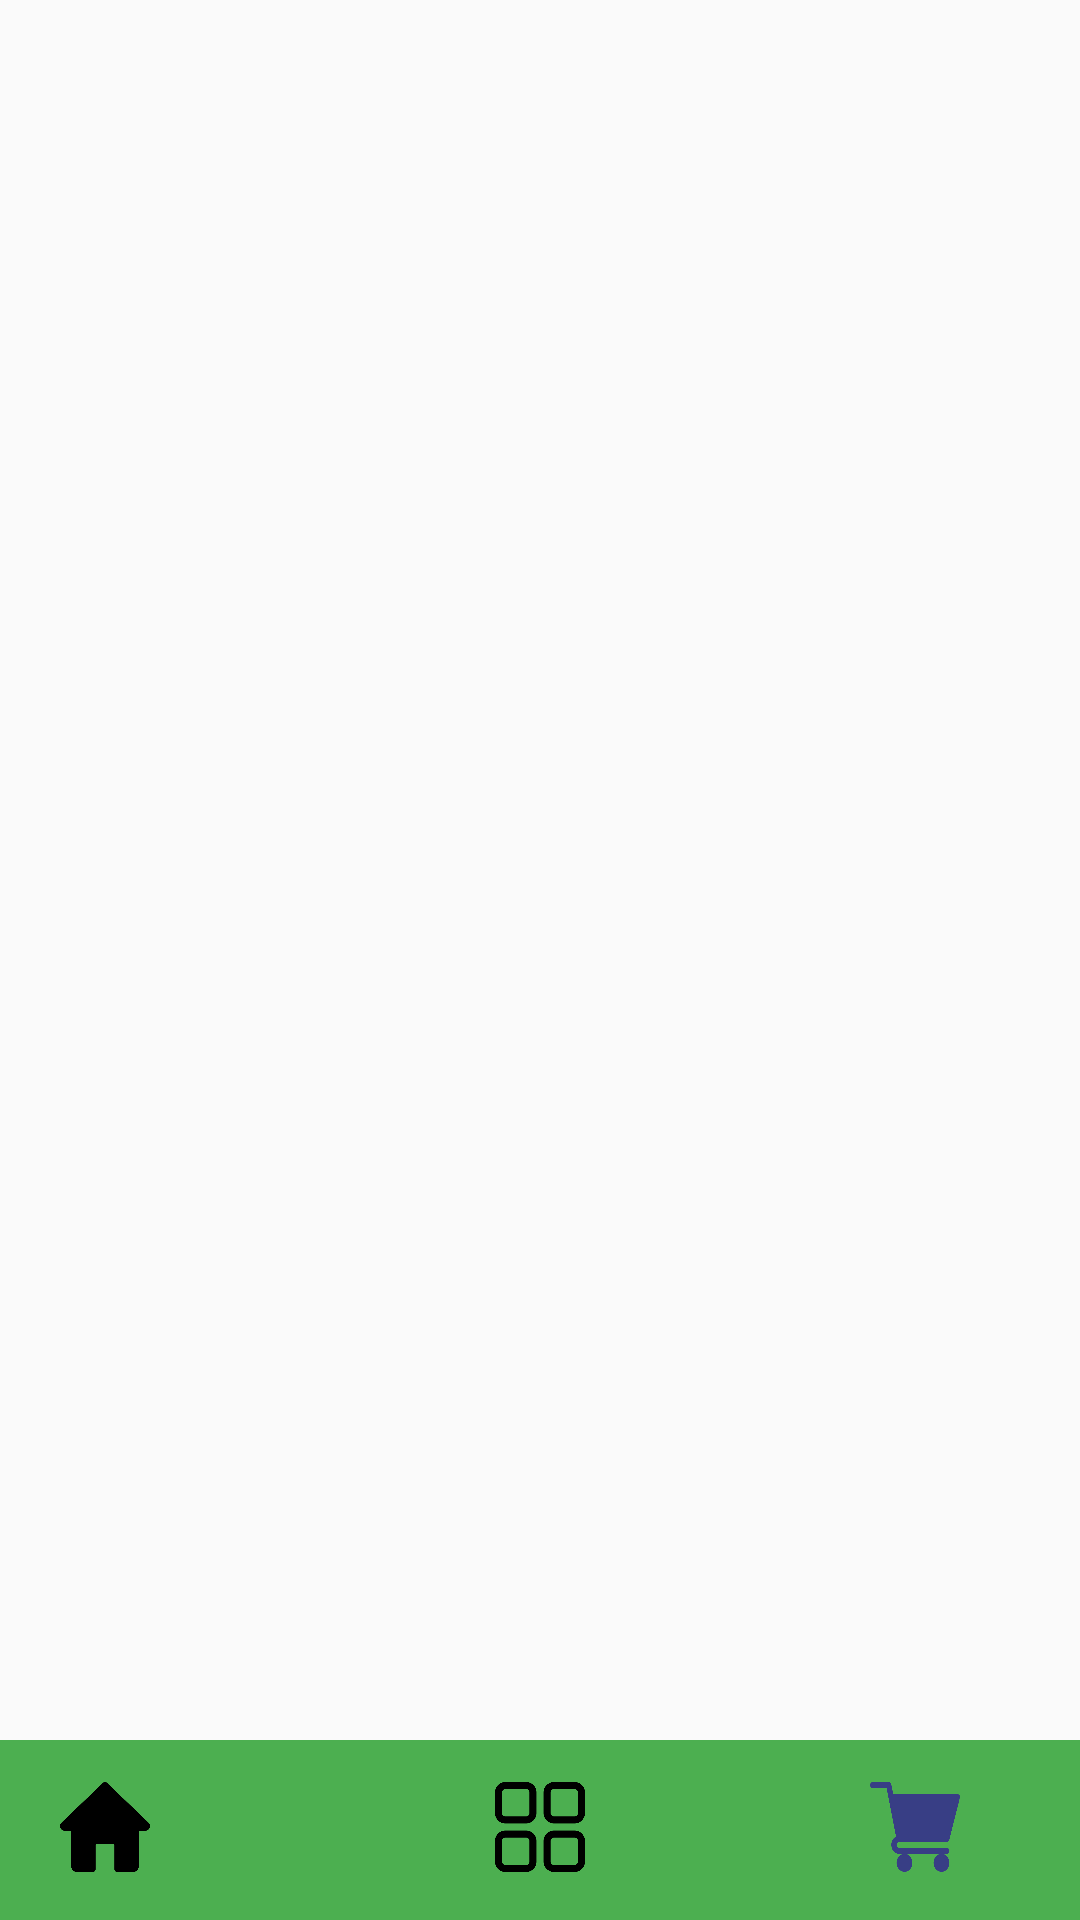

Icons on this 1080 x 1920 Android screen, each with its box as (x1, y1, x2, y2):
cart: (870, 1782, 960, 1872)
homee: (60, 1782, 150, 1872)
menu: (495, 1782, 585, 1872)
